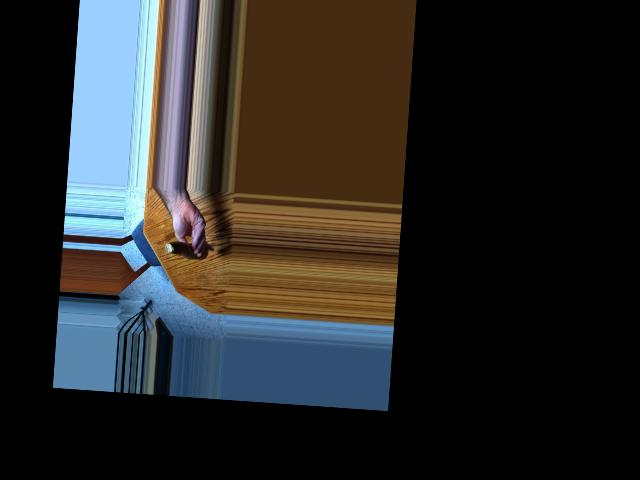sweet_potato: (165, 236, 203, 262)
